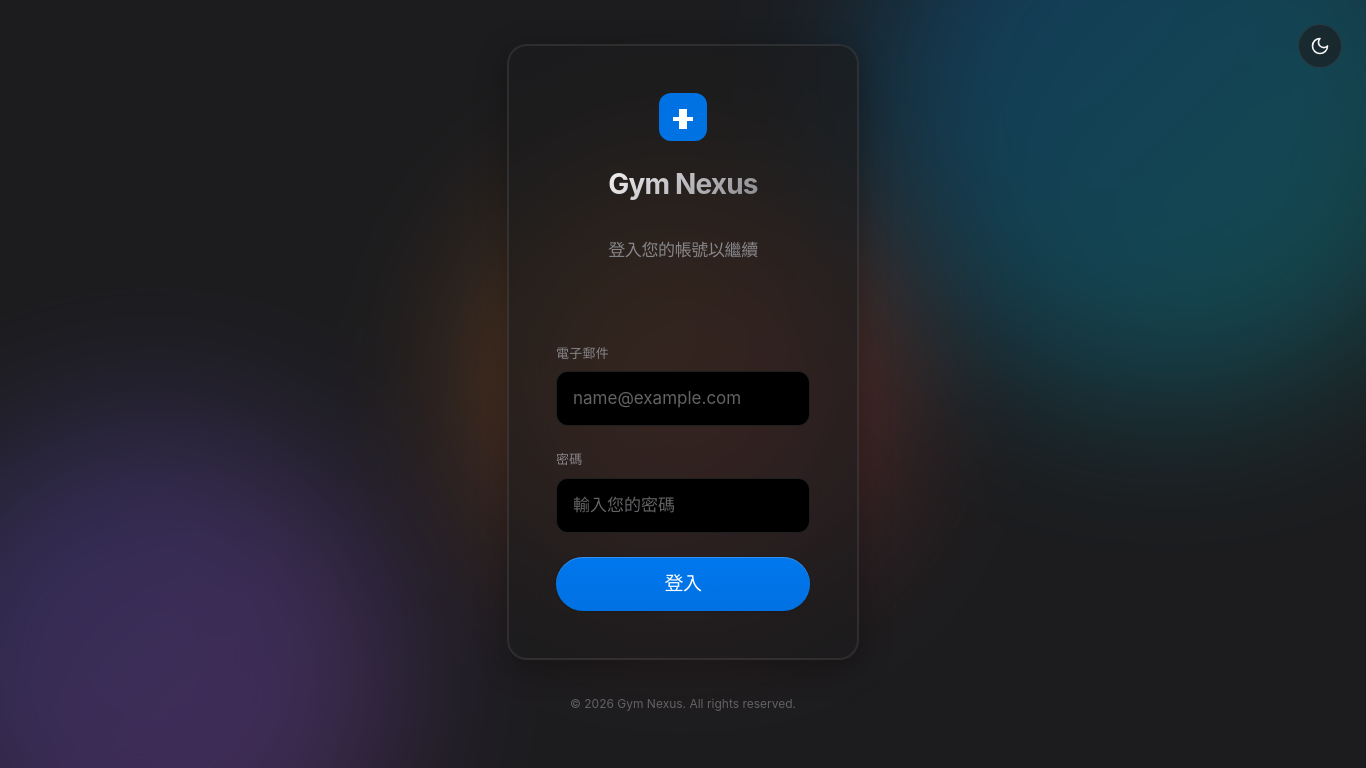
Test: Login Page › 表單驗證 › 應該在只填寫郵箱時顯示錯誤
Type "test@example.com" into the field with id "email" at point(683, 399), box [556,371,810,426]
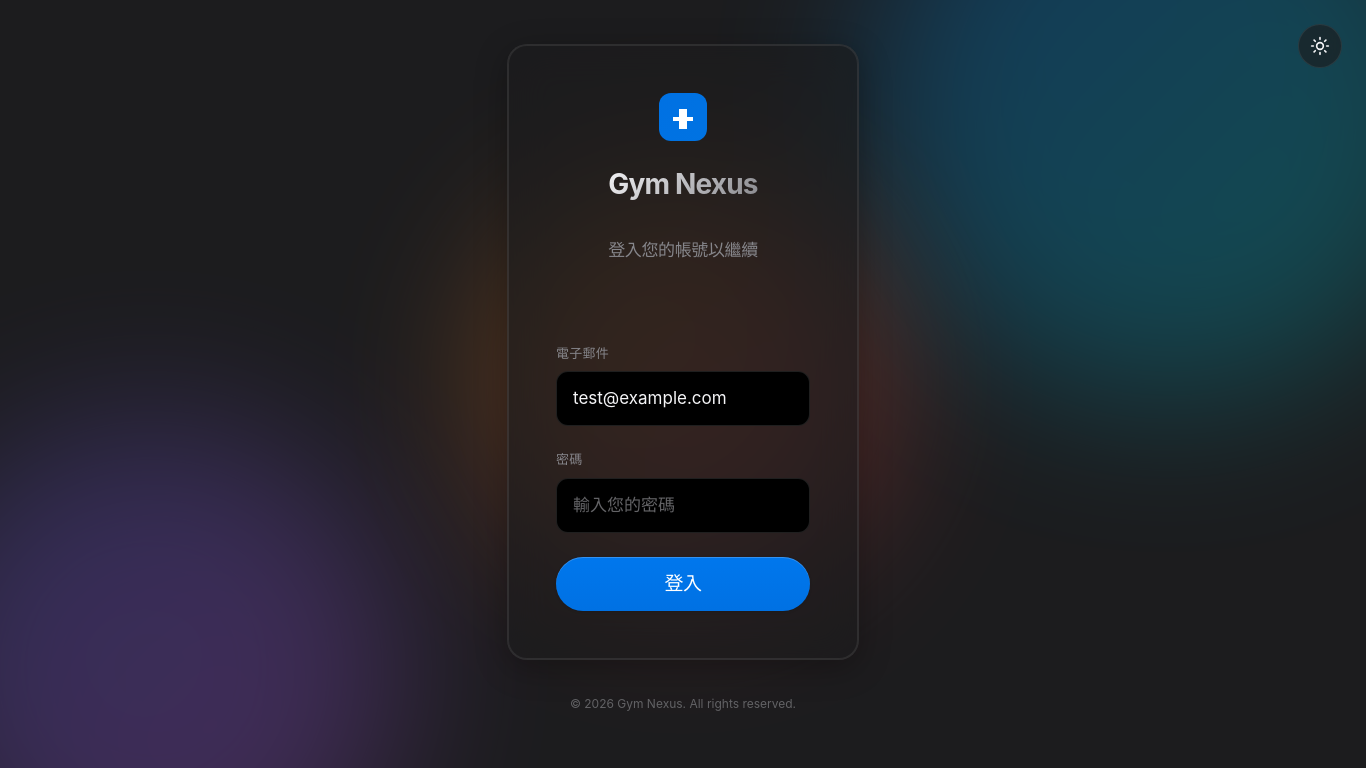
Submit the form, box [556,344,810,611]
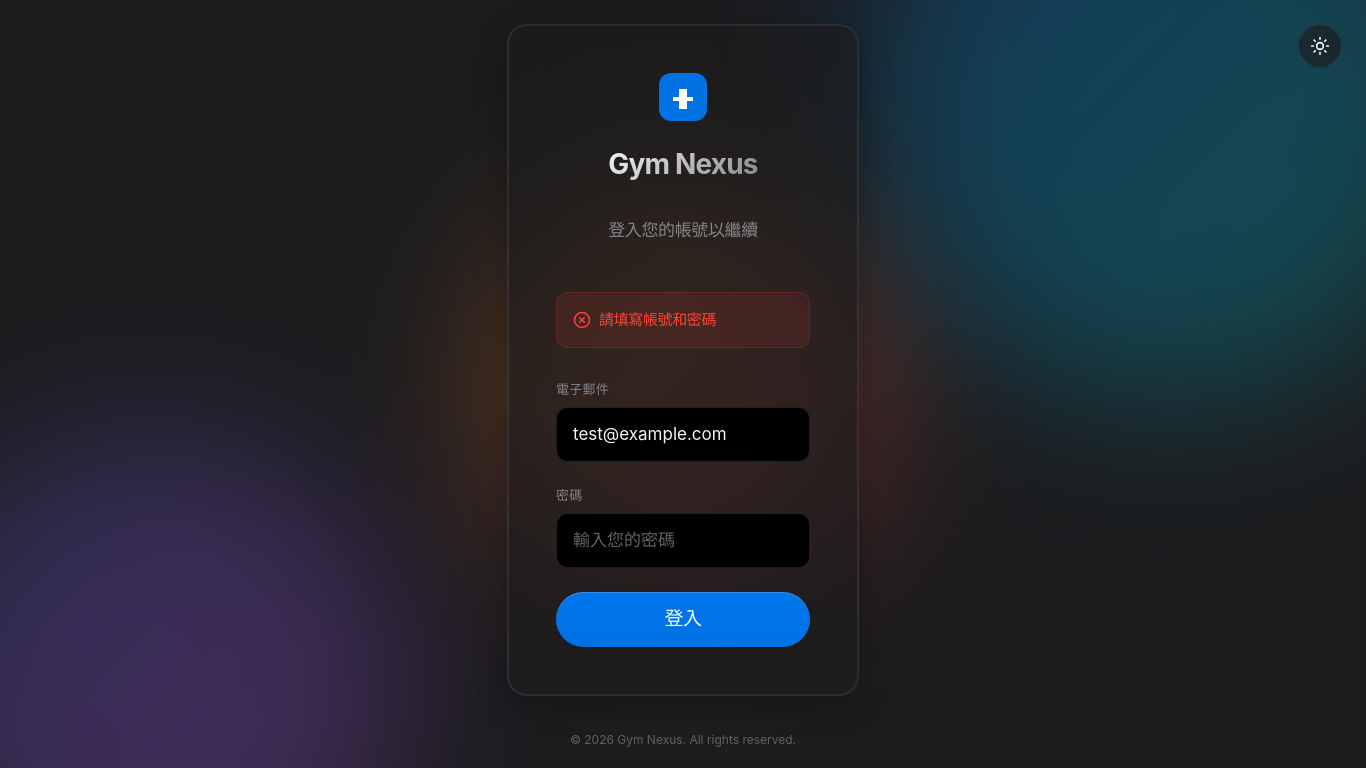
Expected: the element with class "error-banner" is shown, [556,292,810,348]
